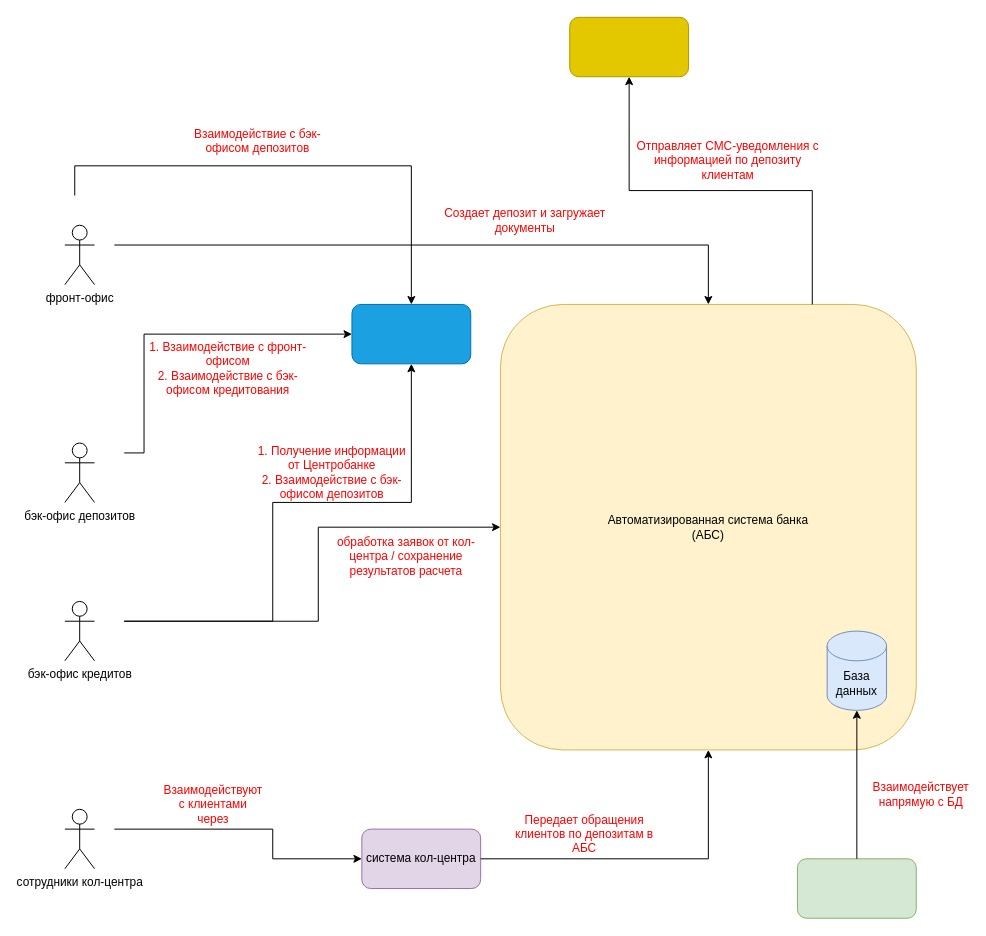
This 986x936 diagram has some shape labels left out. Here are the shapes that lost their labels. From the top down, the centre of each, then its label:
point 629,46: СМС-шлюз телеком-оператора
point 411,333: Почта
point 856,888: Интернет-банк
